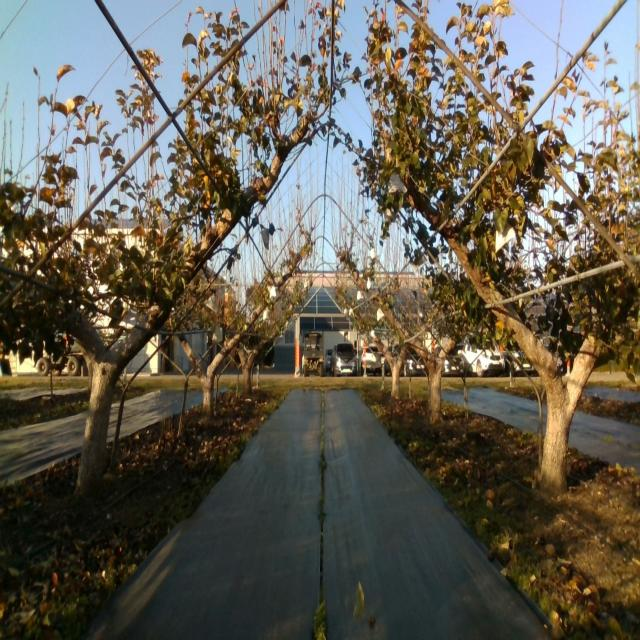pearbags: (495, 225, 516, 252), (118, 308, 138, 329), (388, 173, 407, 195), (206, 292, 218, 312)
